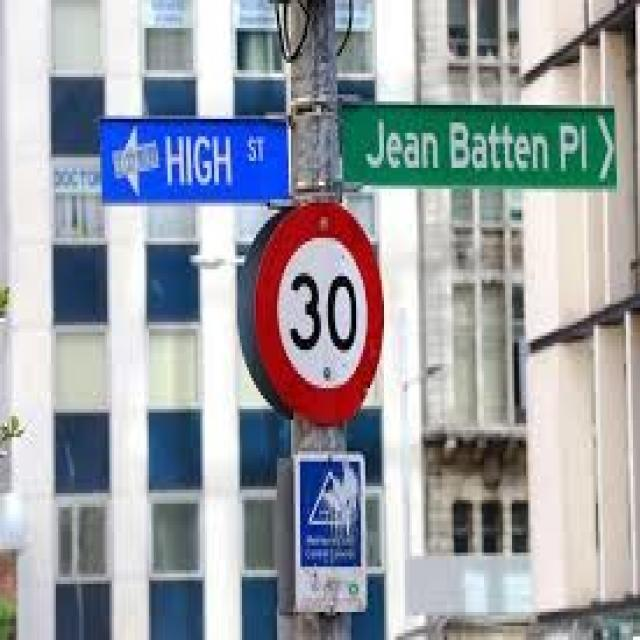speed_limit_30: (252, 203, 399, 433)
